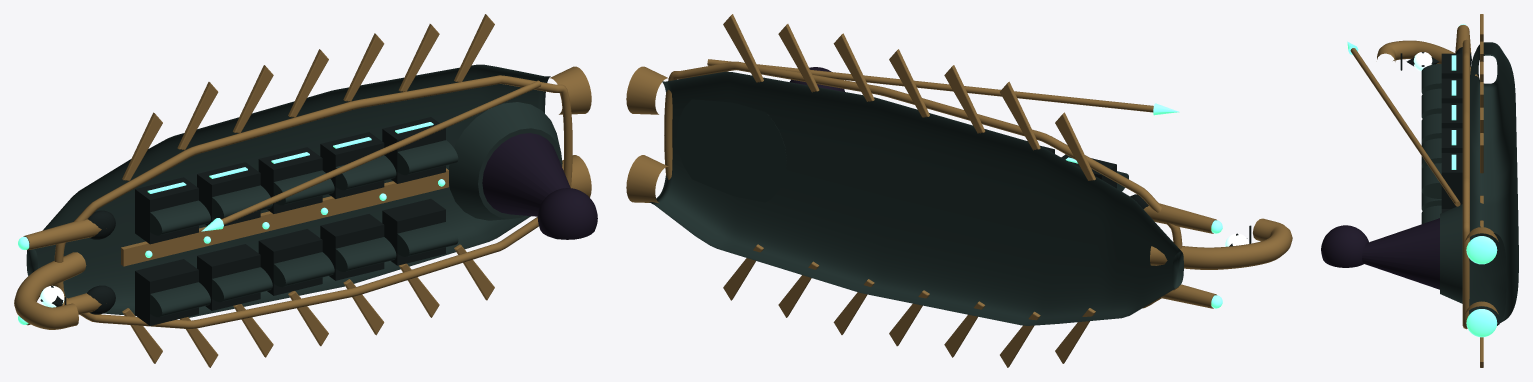
Rendered from charon.glb.
3 views of the same model, side by side, from view 1: azimuth 30°, elevation 25°; view 2: azimuth 150°, elevation 25°; view 3: azimuth 270°, elevation 25° (orthographic). The views are drawn at different scales.
Visible parts, largest first — view 1: hull, gunwale, tower_base, walkway, cloak, prow, hood, pole, pod_0_R, pod_0_L, pod_3_R, pod_2_R (+36 smaller); view 2: hull, tower_base, gunwale, prow, pole, engine_L_bell, engine_R_bell, cannon_L, oar_L_1, oar_L_2, oar_L_5, oar_L_0 (+11 smaller); view 3: hull, cloak, gunwale, tower_base, hood, pole, prow, pod_4_L, engine_R_glow, engine_L_glow, pod_4_L_roof, pod_1_L_roof (+12 smaller).
Part boxes in pixels (x1=…): hull: x1=26, y1=64, x2=550, y2=317; gunwale: x1=54, y1=75, x2=572, y2=328; tower_base: x1=448, y1=102, x2=562, y2=220; walkway: x1=121, y1=168, x2=448, y2=266; cloak: x1=482, y1=133, x2=570, y2=216; prow: x1=14, y1=252, x2=86, y2=329; hood: x1=537, y1=188, x2=597, y2=239; pole: x1=221, y1=80, x2=541, y2=224; pod_0_R: x1=135, y1=259, x2=198, y2=325; pod_0_L: x1=135, y1=177, x2=198, y2=244; pod_3_R: x1=320, y1=214, x2=384, y2=280; pod_2_R: x1=258, y1=229, x2=322, y2=295; hull: x1=649, y1=71, x2=1183, y2=325; tower_base: x1=676, y1=99, x2=786, y2=202; gunwale: x1=664, y1=61, x2=1182, y2=308; prow: x1=1150, y1=218, x2=1292, y2=269; pole: x1=707, y1=59, x2=1153, y2=112; engine_L_bell: x1=626, y1=66, x2=668, y2=114; engine_R_bell: x1=626, y1=155, x2=668, y2=203; cannon_L: x1=1143, y1=203, x2=1216, y2=233; oar_L_1: x1=1000, y1=81, x2=1040, y2=150; oar_L_2: x1=944, y1=65, x2=985, y2=133; oar_L_5: x1=778, y1=24, x2=819, y2=92; oar_L_0: x1=1055, y1=112, x2=1095, y2=180; hull: x1=1469, y1=42, x2=1518, y2=325; cloak: x1=1362, y1=218, x2=1439, y2=289; gunwale: x1=1462, y1=39, x2=1469, y2=329; tower_base: x1=1440, y1=204, x2=1462, y2=303; hood: x1=1321, y1=225, x2=1368, y2=267; pole: x1=1350, y1=48, x2=1460, y2=206; prow: x1=1377, y1=40, x2=1478, y2=77; pod_4_L: x1=1441, y1=153, x2=1462, y2=208; engine_R_glow: x1=1466, y1=309, x2=1497, y2=337; engine_L_glow: x1=1466, y1=236, x2=1497, y2=264; pod_4_L_roof: x1=1421, y1=163, x2=1441, y2=198; pod_1_L_roof: x1=1421, y1=88, x2=1441, y2=118.
Bounding box in the file's own units: 745 × 354 × 256.
